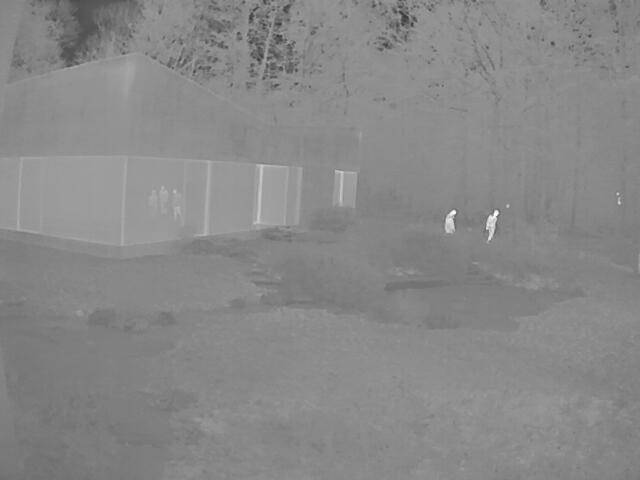person: (484, 208, 500, 240), (157, 183, 170, 213), (170, 188, 182, 220)
